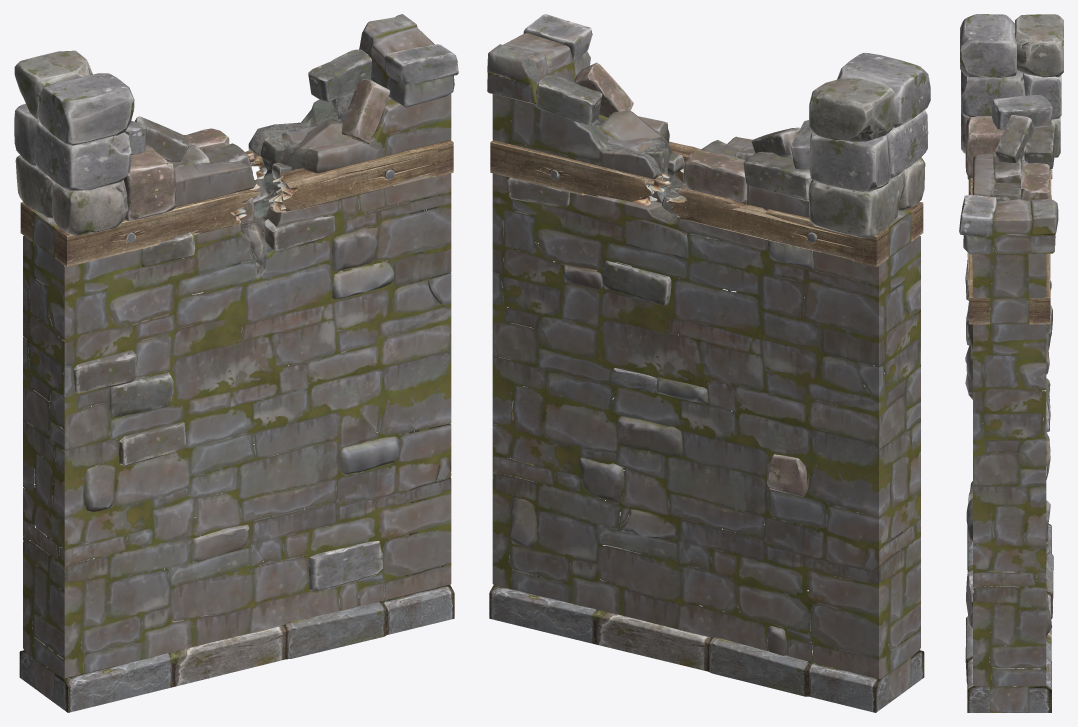
The picture shows the model from 3 angles, left to right: view 1: azimuth 30°, elevation 25°; view 2: azimuth 150°, elevation 25°; view 3: azimuth 270°, elevation 25°; orthographic projection. The views are drawn at different scales.
Parts seen in each view (by area): view 1: SM_Castle_Wall_4x6_01_Dmg_v1_LOD0; view 2: SM_Castle_Wall_4x6_01_Dmg_v1_LOD0; view 3: SM_Castle_Wall_4x6_01_Dmg_v1_LOD0.
Boxes of the visible parts, <box> form: SM_Castle_Wall_4x6_01_Dmg_v1_LOD0: <box>14,14,458,712</box>; SM_Castle_Wall_4x6_01_Dmg_v1_LOD0: <box>487,14,930,712</box>; SM_Castle_Wall_4x6_01_Dmg_v1_LOD0: <box>959,14,1063,712</box>.
Bounding box in the file's own units: 4.05 × 6.05 × 1.08.
Materials: 6 (6 with a texture image).
